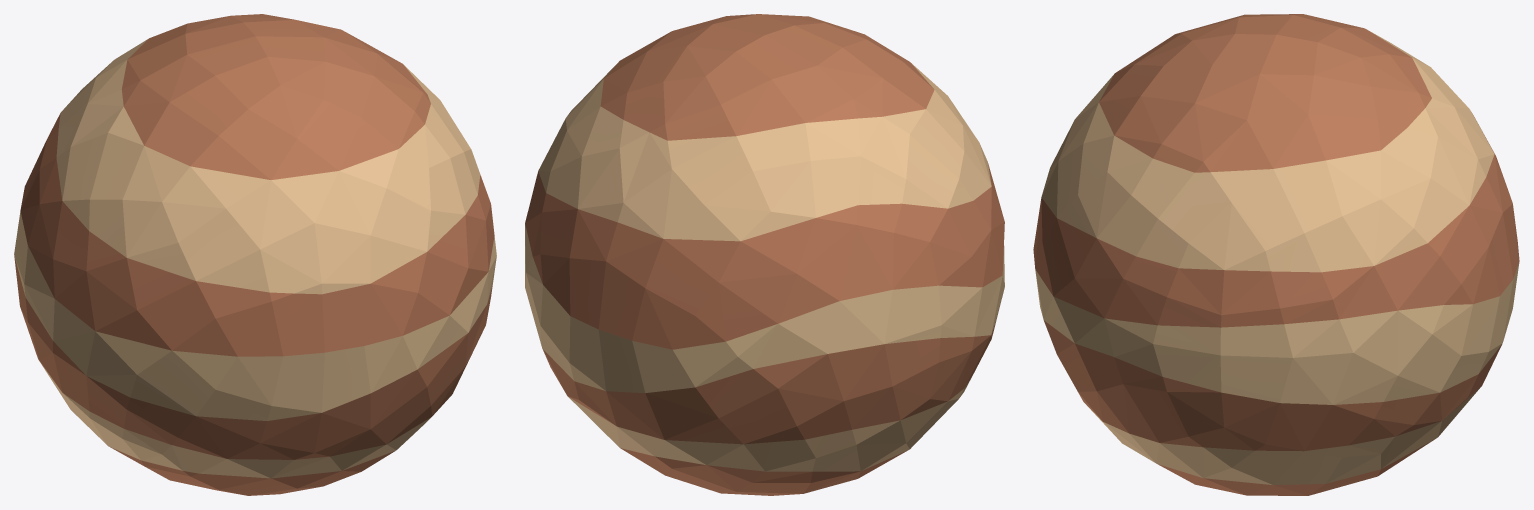
Rendered from jupiter.glb.
3 renders of one model, left to right at view 1: azimuth 30°, elevation 25°; view 2: azimuth 150°, elevation 25°; view 3: azimuth 270°, elevation 25°, orthographic.
Visible parts, largest first — view 1: huitugou_2145_08; view 2: huitugou_2145_08; view 3: huitugou_2145_08.
Boxes of the visible parts, x1,y1,x2,y2 form: huitugou_2145_08: (14,14,496,495); huitugou_2145_08: (525,14,1004,495); huitugou_2145_08: (1033,14,1519,495).
Size of the model in its own units: 1.12 by 1.12 by 1.12.
1 material, 1 textured.
